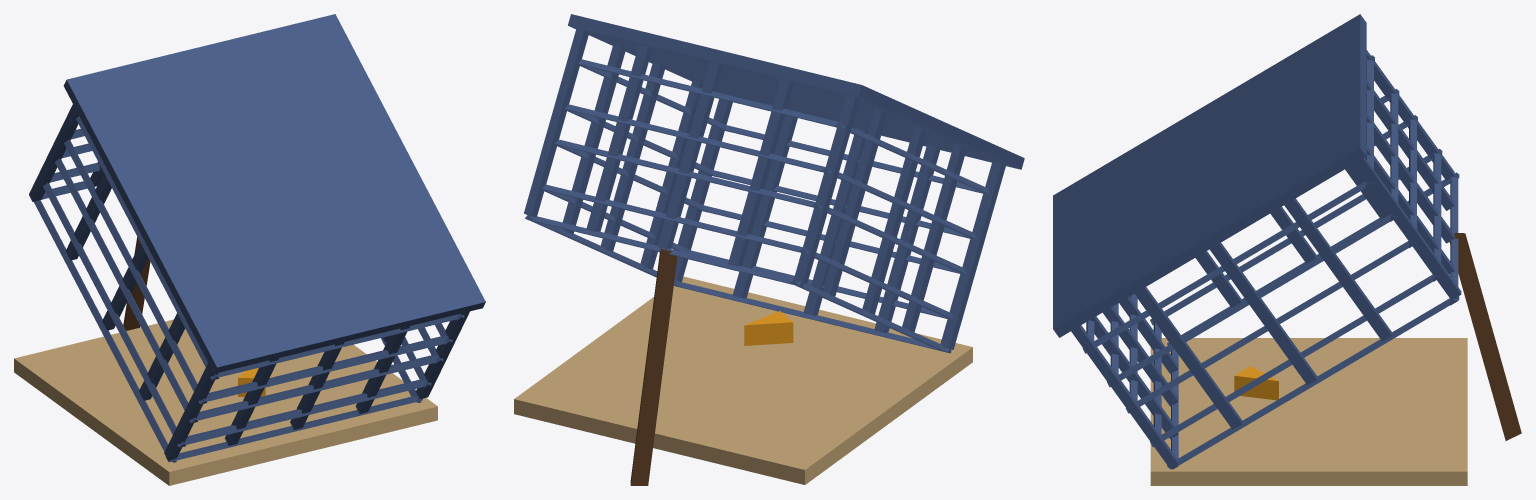
The model's file is trap1.fbx.
3 views of the same model, side by side, from view 1: azimuth 30°, elevation 25°; view 2: azimuth 150°, elevation 25°; view 3: azimuth 270°, elevation 25° (orthographic). The views are drawn at different scales.
Visible parts, largest first — view 1: Cylinder.018, Cube.002, Cylinder.020; view 2: Cylinder.018, Cube.002, Cylinder.020, Cylinder.021; view 3: Cylinder.018, Cube.002, Cylinder.020, Cylinder.021.
Boxes of the visible parts, left/top/right/bottom form: Cylinder.018: left=29, top=14, right=485, bottom=462; Cube.002: left=14, top=319, right=437, bottom=485; Cylinder.020: left=123, top=237, right=150, bottom=330; Cylinder.018: left=524, top=14, right=1024, bottom=353; Cube.002: left=514, top=276, right=972, bottom=484; Cylinder.020: left=630, top=249, right=677, bottom=485; Cylinder.021: left=744, top=311, right=793, bottom=345; Cylinder.018: left=1053, top=14, right=1461, bottom=469; Cube.002: left=1150, top=338, right=1467, bottom=485; Cylinder.020: left=1449, top=233, right=1521, bottom=440; Cylinder.021: left=1234, top=366, right=1278, bottom=400.
Bounding box in the file's own units: 200 × 248 × 296.
